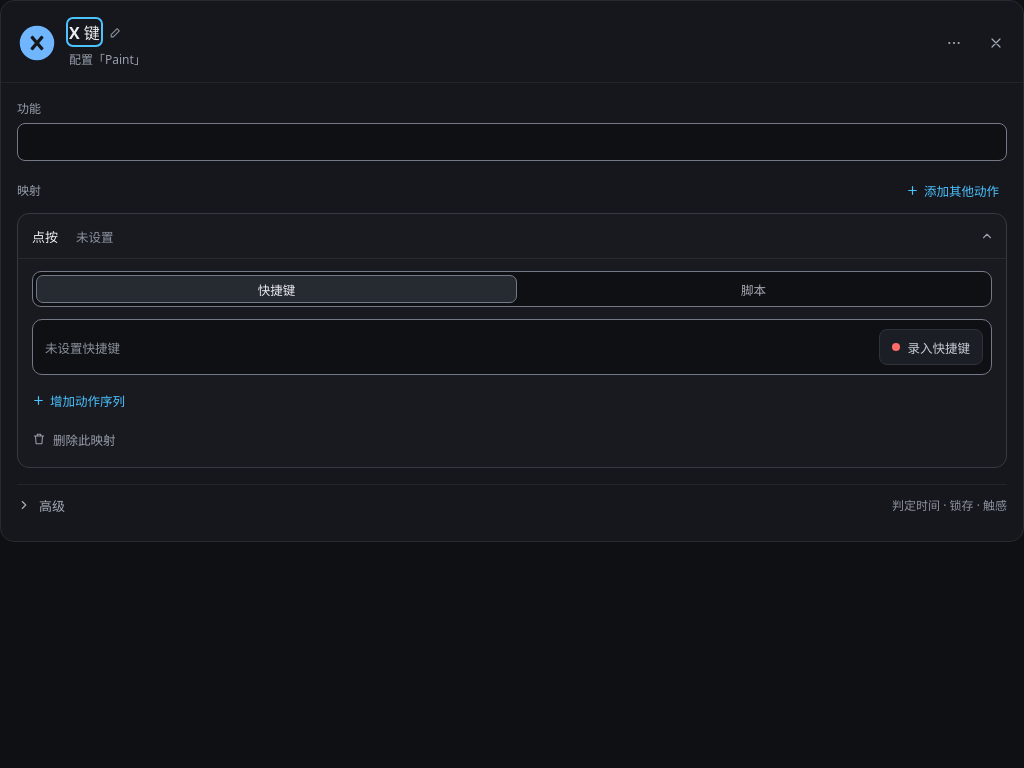
offers a ready empty 点按 for an unset key without touching the draft
Expected: the heading "X 键" is shown, [69,20,100,44]
Click the button "录入快捷键": click(931, 347) [880,329,983,365]
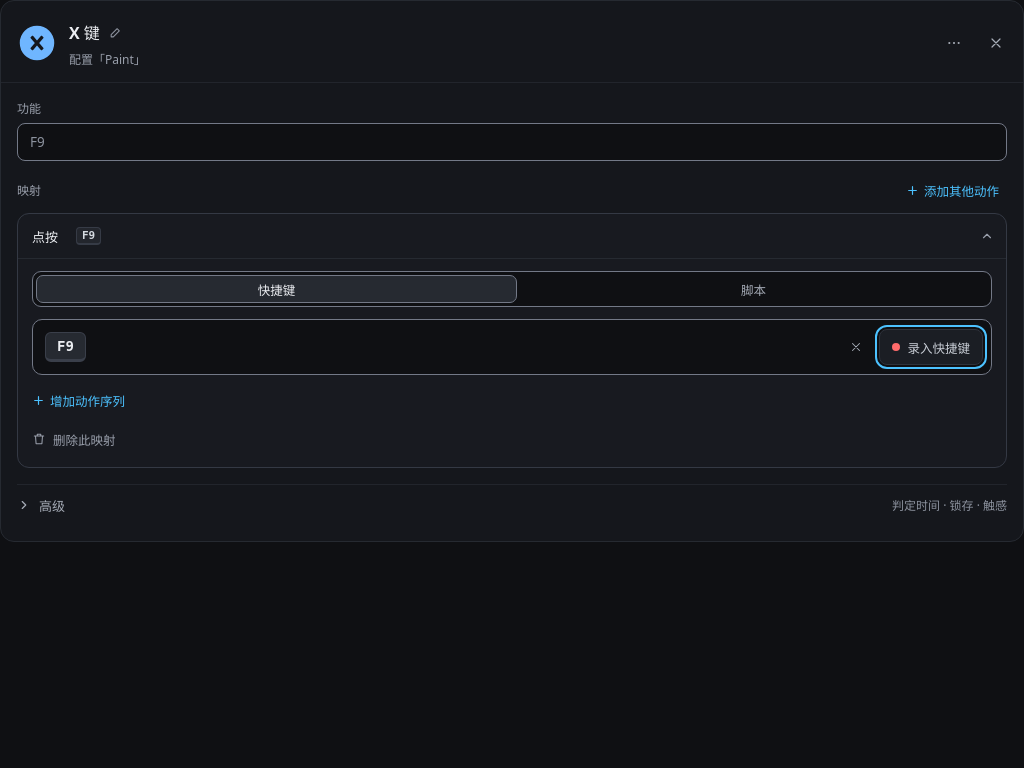
Click the button "删除此映射": click(74, 439) [24,425,124,453]
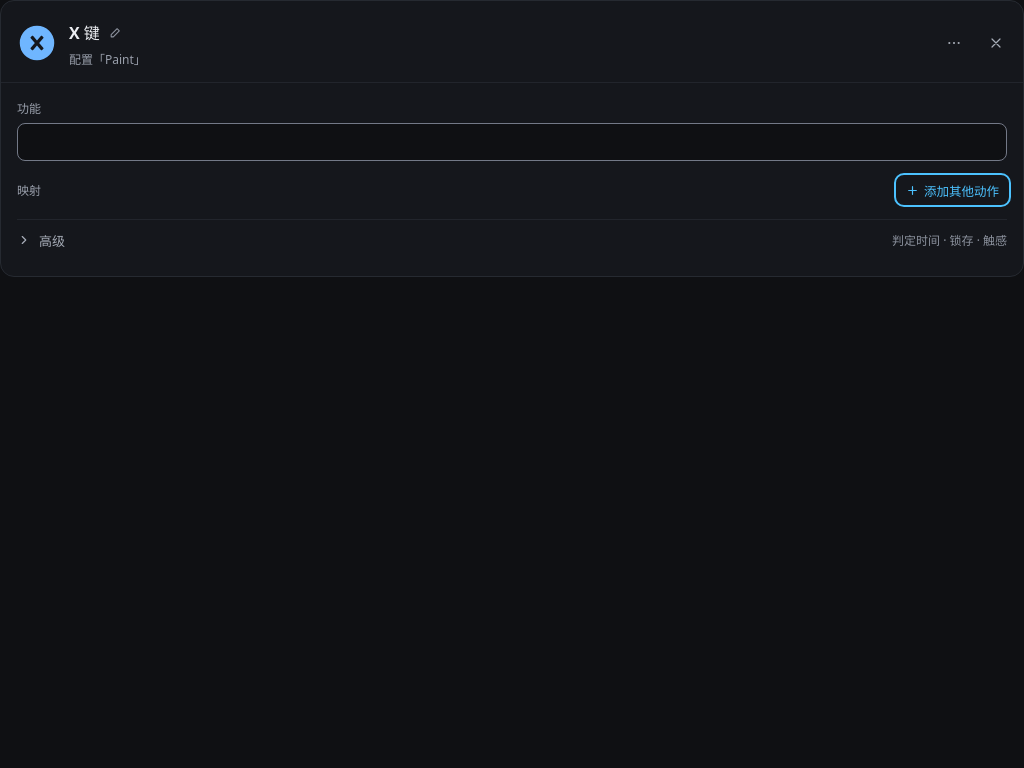
Expected: the button with test id "add-gesture" is shown, [898,177,1007,203]
Now the radio button labelled "快捷键" is gone
Now the button "点按" is gone
